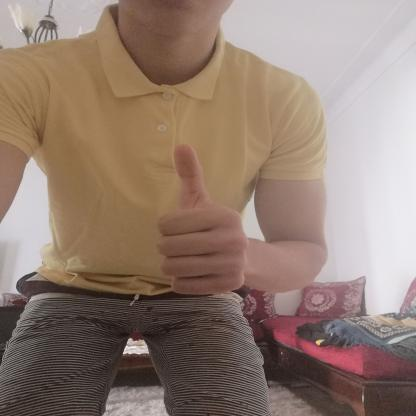ALIF: (138, 128, 272, 308)
